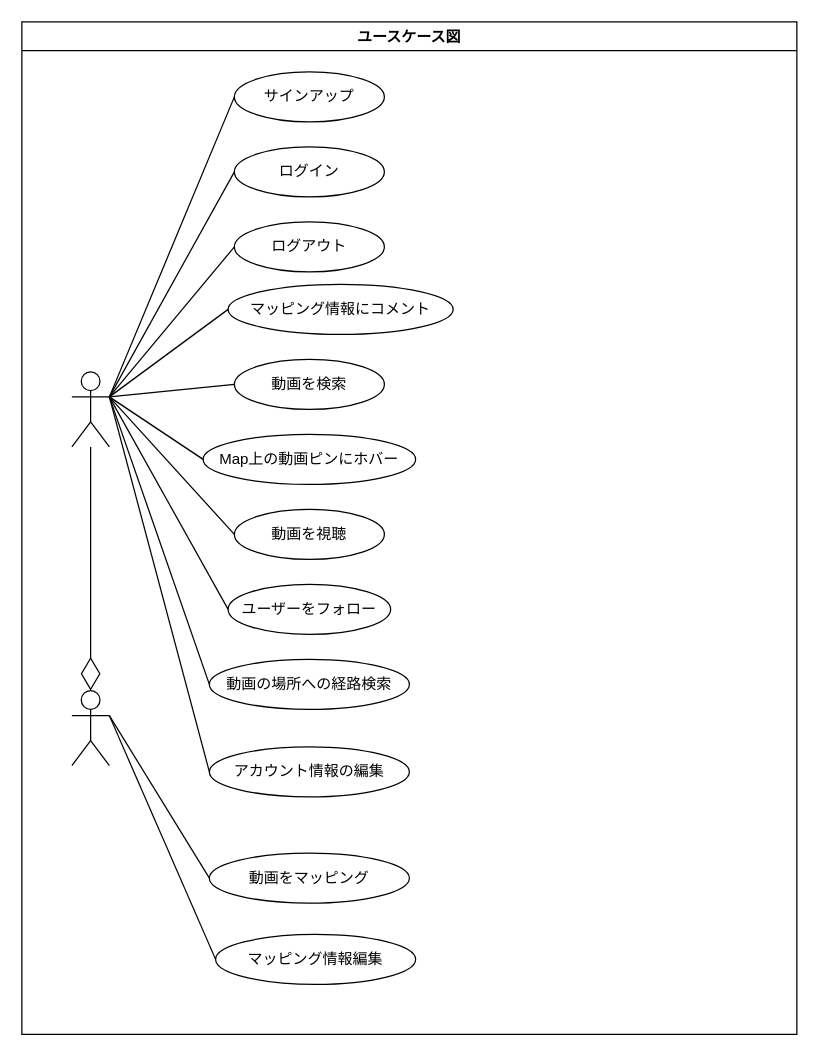
Some shapes in this 819 by 1056 pixel diagram are drawn without their labels. Each missing label, with the box of its shape:
投稿者: (71, 689, 109, 766)
見るだけ: (71, 371, 109, 447)
